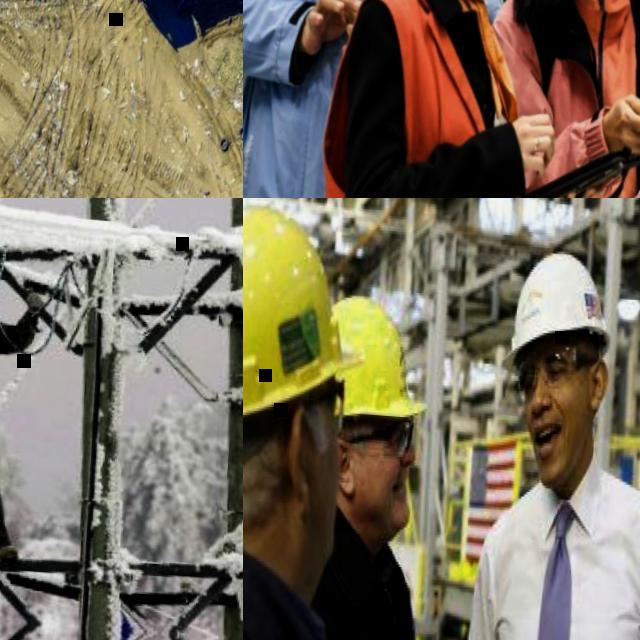Hardhat: (243, 199, 377, 439), (497, 245, 618, 379), (323, 291, 436, 421)
NO-Mask: (523, 386, 593, 490), (302, 425, 344, 569), (347, 457, 413, 537)
NO-Safety Vest: (325, 0, 538, 198), (243, 0, 433, 198), (467, 462, 640, 640), (493, 0, 640, 198), (298, 542, 443, 640)
Person: (436, 243, 640, 640), (243, 198, 407, 640), (292, 286, 486, 640), (307, 0, 624, 198), (243, 0, 449, 198), (469, 0, 640, 198), (0, 248, 56, 563)
